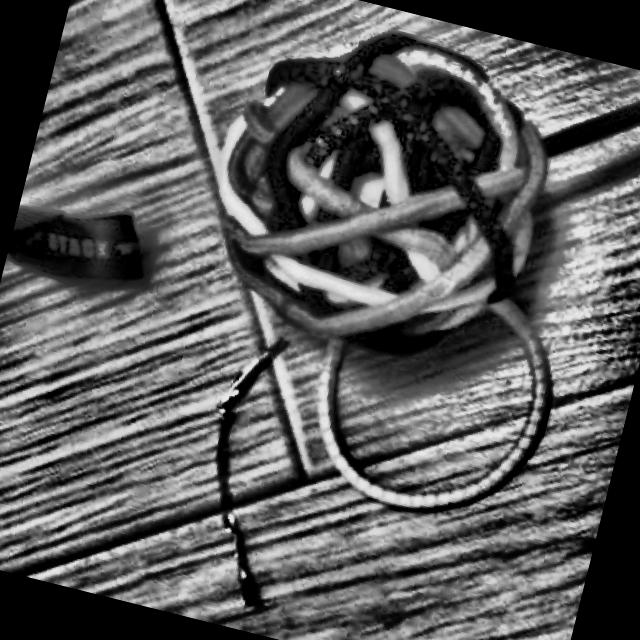Cable: (141, 0, 640, 557)
